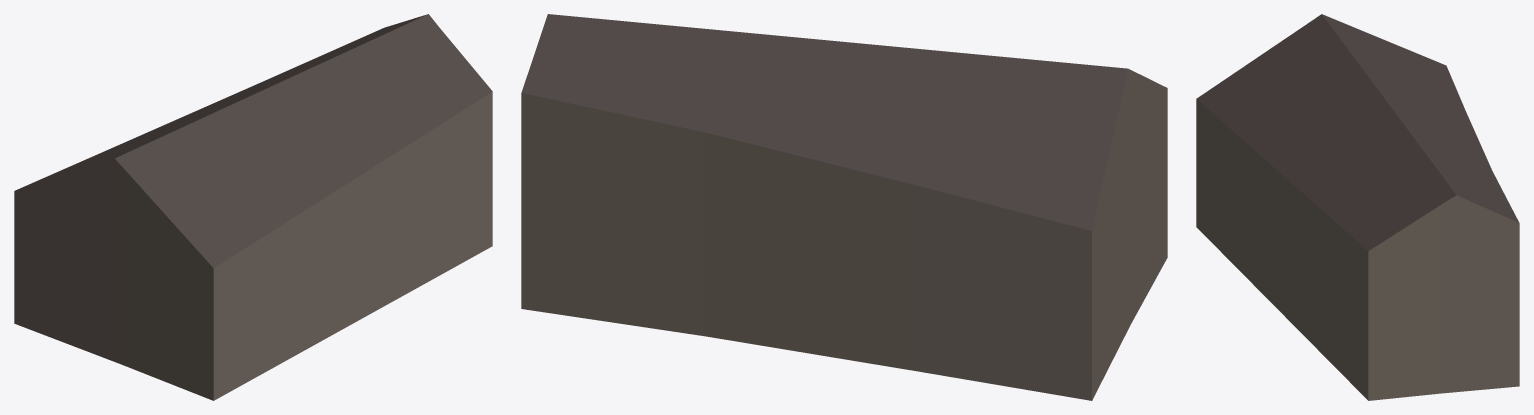
The picture shows the model from 3 angles, left to right: view 1: azimuth 30°, elevation 25°; view 2: azimuth 150°, elevation 25°; view 3: azimuth 270°, elevation 25°; orthographic projection. The views are drawn at different scales.
Parts seen in each view (by area): view 1: HP-w1198845813; view 2: HP-w1198845813; view 3: HP-w1198845813.
Boxes of the visible parts, x1,y1,x2,y2 form: HP-w1198845813: (14,14,492,400); HP-w1198845813: (521,14,1167,400); HP-w1198845813: (1196,14,1519,400).
Size of the model in its own units: 31.13 by 13.81 by 20.53.
